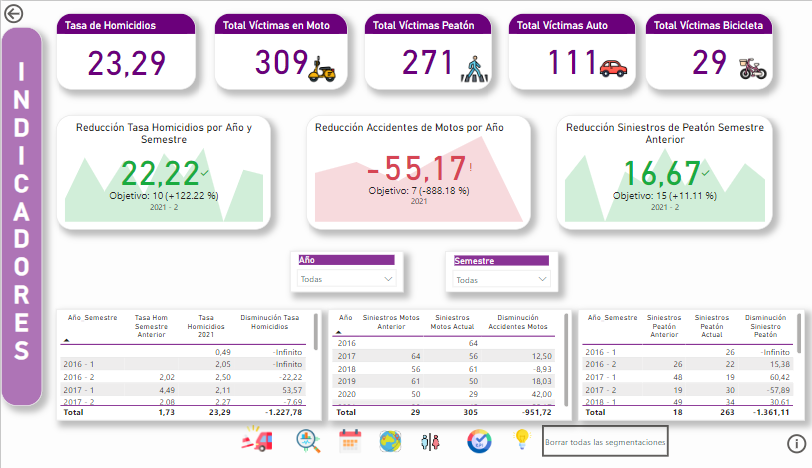

The page's visual inventory and layout, read from the dashboard file:
{"tool":"powerbi","page":{"name":"Página 1","canvas":[1280,720],"ordinal":0},"visuals":[{"type":"actionButton","box":[0,0,100,40],"z":0},{"type":"kpi","fields":{"TrendLine":["Calendario.Año_Semestre"],"Goal":["Medidas.Objetivo T Homicidios"],"Indicator":["Medidas.Disminución Tasa Homicidios"]},"box":[99.8,6.2,311.8,168.4],"z":1000},{"type":"kpi","fields":{"TrendLine":["Calendario.Año"],"Goal":["Medidas.Objetivo Motos"],"Indicator":["Medidas.Disminución Accidentes Motos"]},"box":[497.3,6.2,339.9,168.4],"z":2000},{"type":"card","fields":{"Values":["CountNonNull(siniestos_limpio.Num víctimas)"]},"box":[1053.9,7.8,212,165.3],"z":3000},{"type":"card","fields":{"Values":["Medidas.Tasa Homicidios 2022"]},"box":[1064.8,174.6,215.2,115.4],"z":4000},{"type":"tableEx","fields":{"Values":["Calendario.Año_Semestre","Medidas.Tasa Hom Semestre Anterior","Medidas.Tasa Homicidios 2022","Medidas.Disminución Tasa Homicidios"]},"box":[100.7,345.2,641,355.4],"z":5000},{"type":"card","fields":{"Values":["Medidas.SumaVictimasPeaton"]},"box":[1054,345.2,226,178.7],"z":5001},{"type":"kpi","fields":{"TrendLine":["Calendario.Año_Semestre"],"Goal":["Medidas.Objetivo Peaton"],"Indicator":["Medidas.Disminución Siniestro Peatón"]},"box":[741.7,232.2,300,150],"z":5003},{"type":"card","fields":{"Values":["Medidas.Siniestro Peaton Presente"]},"box":[741.7,402.7,312.3,150],"z":5004}]}

Visuals, with their boxes in screenshot pixels (x1, y1, x2, y2), scaled from the page's 1280x720 canvas onto the 812x468 screenshot:
actionButton: {"x1": 0, "y1": 0, "x2": 63, "y2": 26}
kpi - Calendario.Año_Semestre x Medidas.Objetivo T Homicidios: {"x1": 63, "y1": 4, "x2": 261, "y2": 113}
kpi - Calendario.Año x Medidas.Objetivo Motos: {"x1": 315, "y1": 4, "x2": 531, "y2": 113}
card - CountNonNull(siniestos_limpio.Num víctimas): {"x1": 669, "y1": 5, "x2": 803, "y2": 113}
card - Medidas.Tasa Homicidios 2022: {"x1": 675, "y1": 113, "x2": 811, "y2": 188}
tableEx - Calendario.Año_Semestre x Medidas.Tasa Hom Semestre Anterior: {"x1": 64, "y1": 224, "x2": 471, "y2": 455}
card - Medidas.SumaVictimasPeaton: {"x1": 669, "y1": 224, "x2": 811, "y2": 341}
kpi - Calendario.Año_Semestre x Medidas.Objetivo Peaton: {"x1": 471, "y1": 151, "x2": 661, "y2": 248}
card - Medidas.Siniestro Peaton Presente: {"x1": 471, "y1": 262, "x2": 669, "y2": 359}
